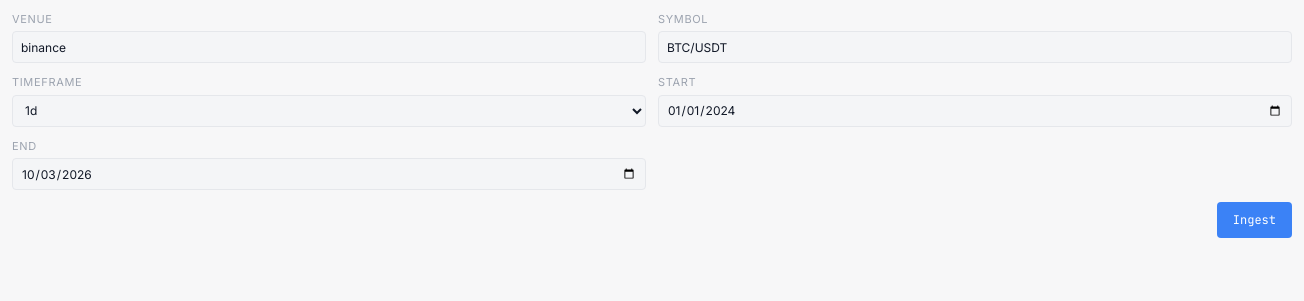
Test: IngestForm › error path shows the error message
The width and height of the screenshot is (1304, 301).
Click the button "Ingest". click: (1254, 220)
box: [1217,202,1292,238]
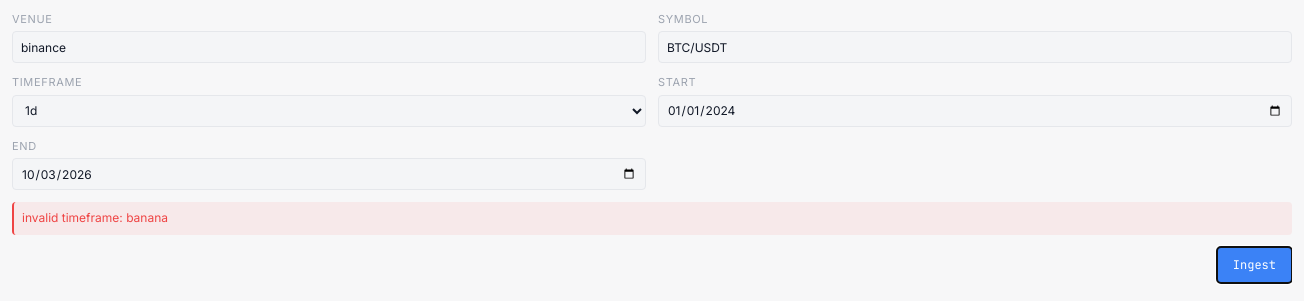
Expected: the text with class "ingest-form__error" reads "invalid timeframe: banana", [22,210,168,225]
